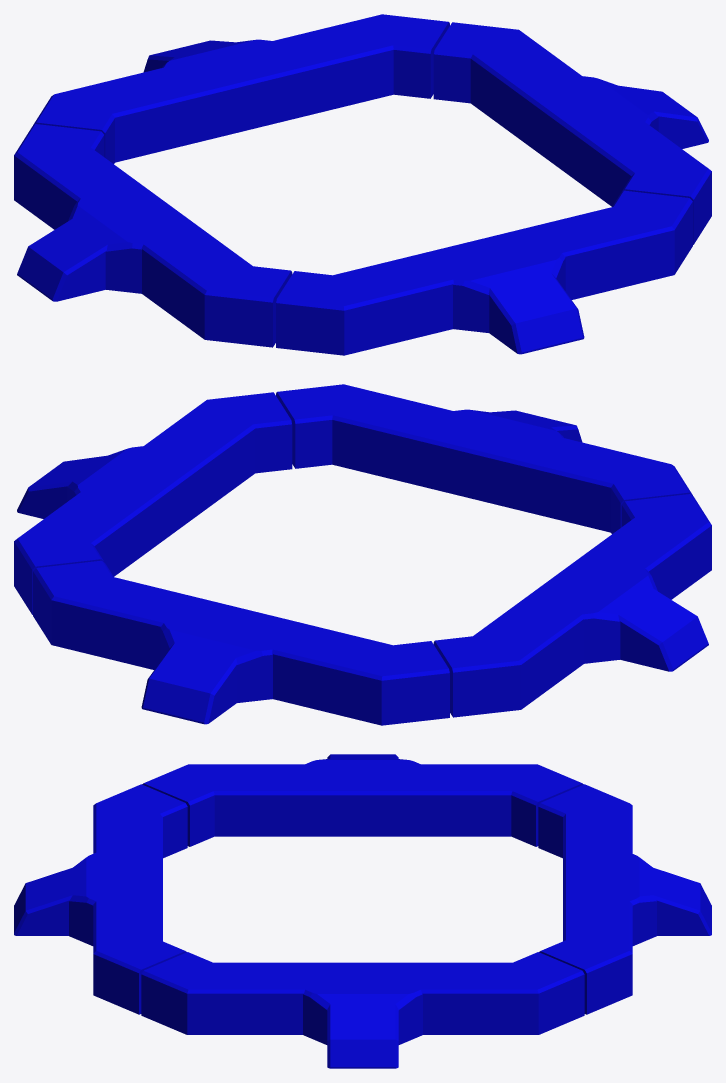
The model's file is lid_cover_blue.dae.
3 renders of one model, top to bottom at view 1: azimuth 30°, elevation 25°; view 2: azimuth 150°, elevation 25°; view 3: azimuth 270°, elevation 25°, orthographic. The views are drawn at different scales.
Parts seen in each view (by area): view 1: PlasticLidCover_Blue; view 2: PlasticLidCover_Blue; view 3: PlasticLidCover_Blue.
Part boxes in pixels (bbox=[...]): PlasticLidCover_Blue: bbox=[14, 14, 711, 355]; PlasticLidCover_Blue: bbox=[14, 384, 711, 725]; PlasticLidCover_Blue: bbox=[14, 754, 711, 1068].
Size of the model in its own units: 0.2294 by 0.2294 by 0.016.
